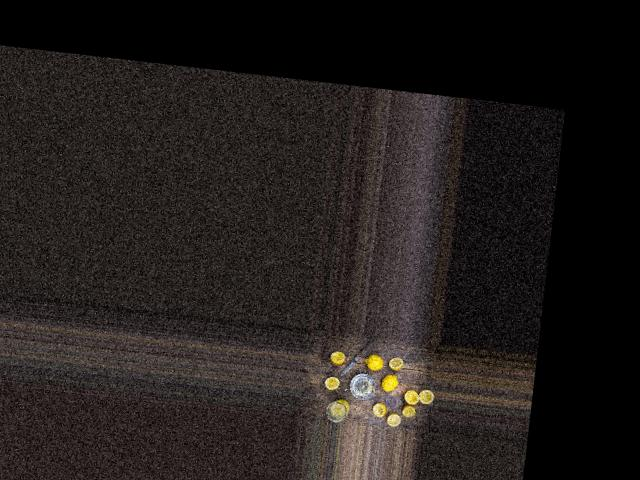lemon: (364, 354, 390, 374)
